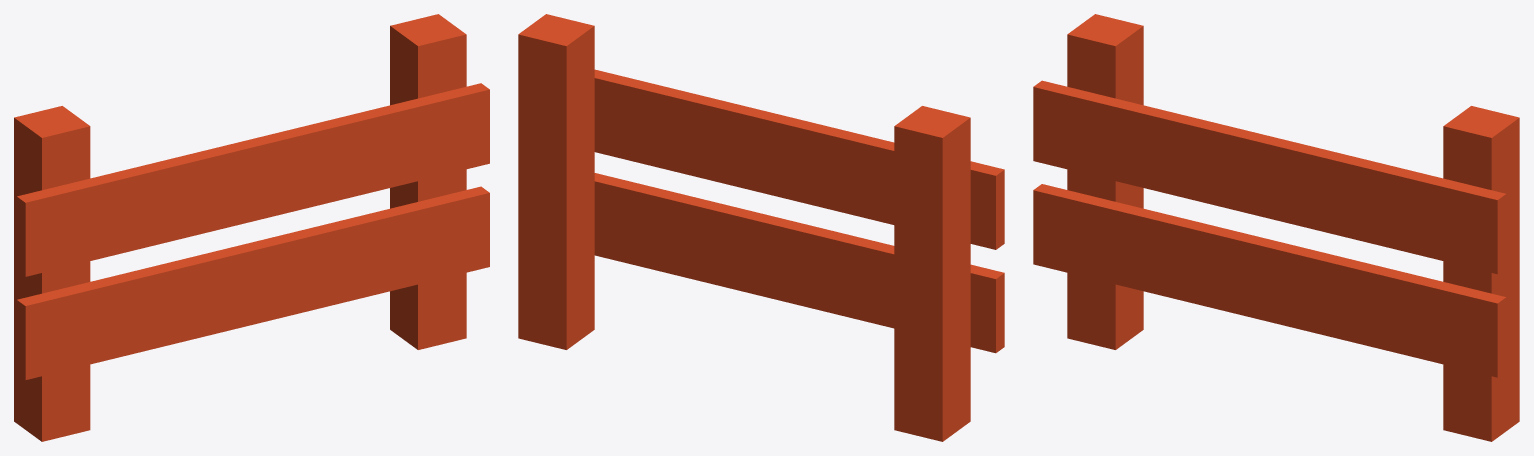
The model's file is Fence4.fbx.
The picture shows the model from 3 angles, left to right: view 1: azimuth 30°, elevation 25°; view 2: azimuth 150°, elevation 25°; view 3: azimuth 330°, elevation 25°; orthographic projection.
Parts seen in each view (by area): view 1: Fence1; view 2: Fence1; view 3: Fence1.
Boxes of the visible parts, bbox=[...] form: Fence1: bbox=[14, 14, 489, 441]; Fence1: bbox=[518, 14, 1004, 441]; Fence1: bbox=[1033, 14, 1519, 441].
Size of the model in its own units: 38374 by 24000 by 5257.
